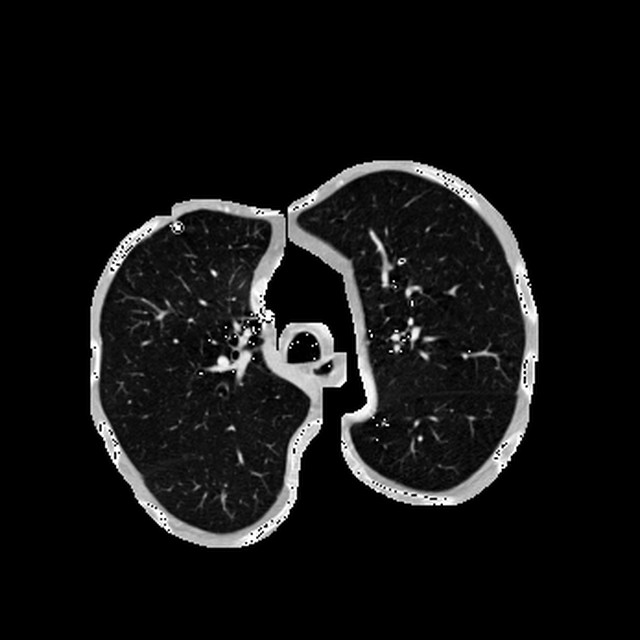PN: (170, 219, 184, 234)
